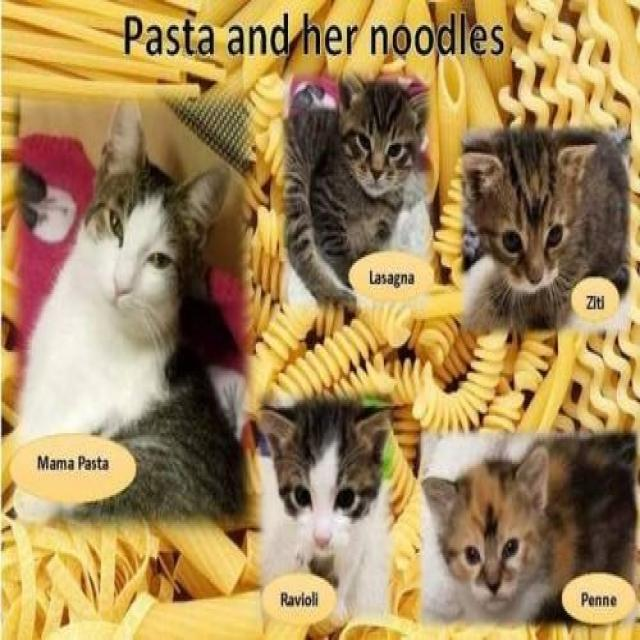cat: (17, 93, 245, 522), (422, 429, 638, 623), (282, 62, 426, 309), (461, 128, 630, 334), (261, 402, 393, 619)
